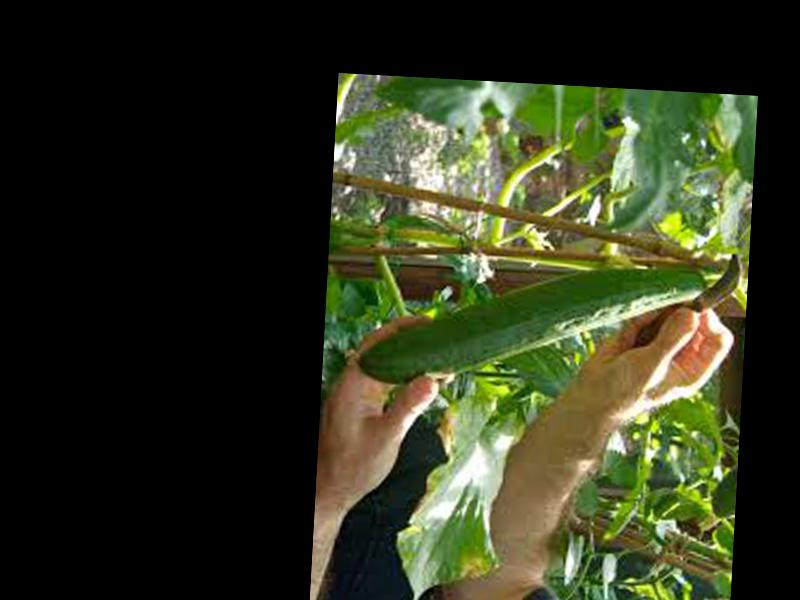Cucumber: (358, 249, 704, 399)
